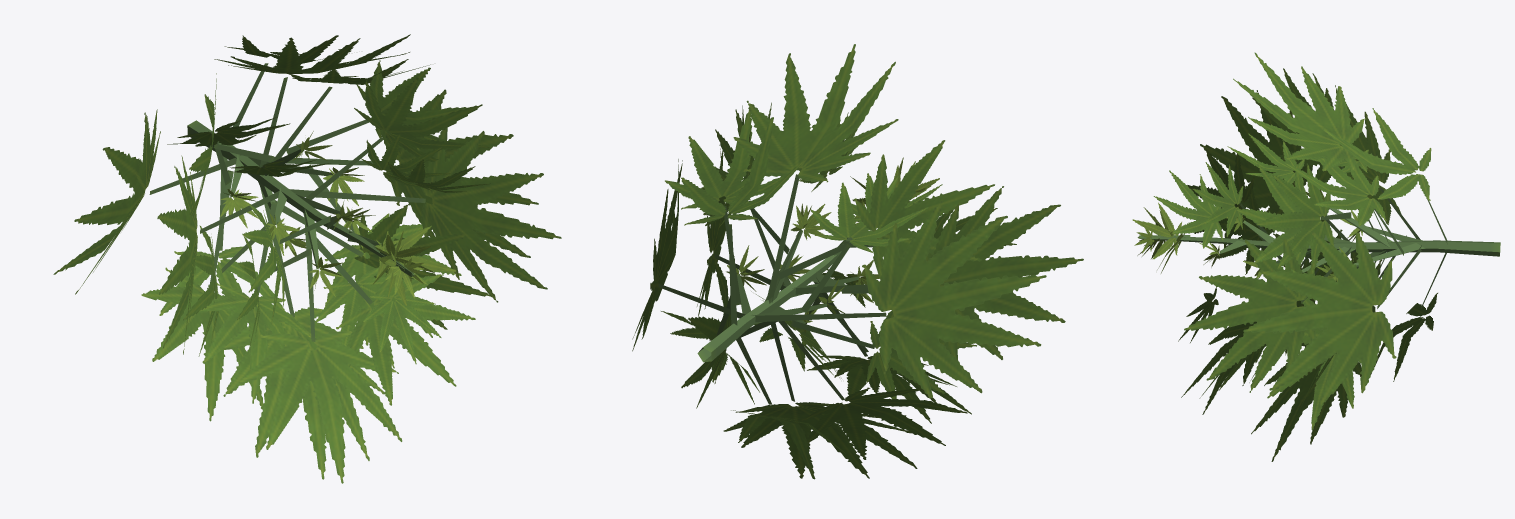
File: p_landrace_vegetative_c0_cards.obj
The picture shows the model from 3 angles, left to right: view 1: azimuth 30°, elevation 25°; view 2: azimuth 150°, elevation 25°; view 3: azimuth 270°, elevation 25°; orthographic projection. The views are drawn at different scales.
Size of the model in its own units: 1.25 by 1.21 by 0.957.
Materials: 1 (1 with a texture image).
